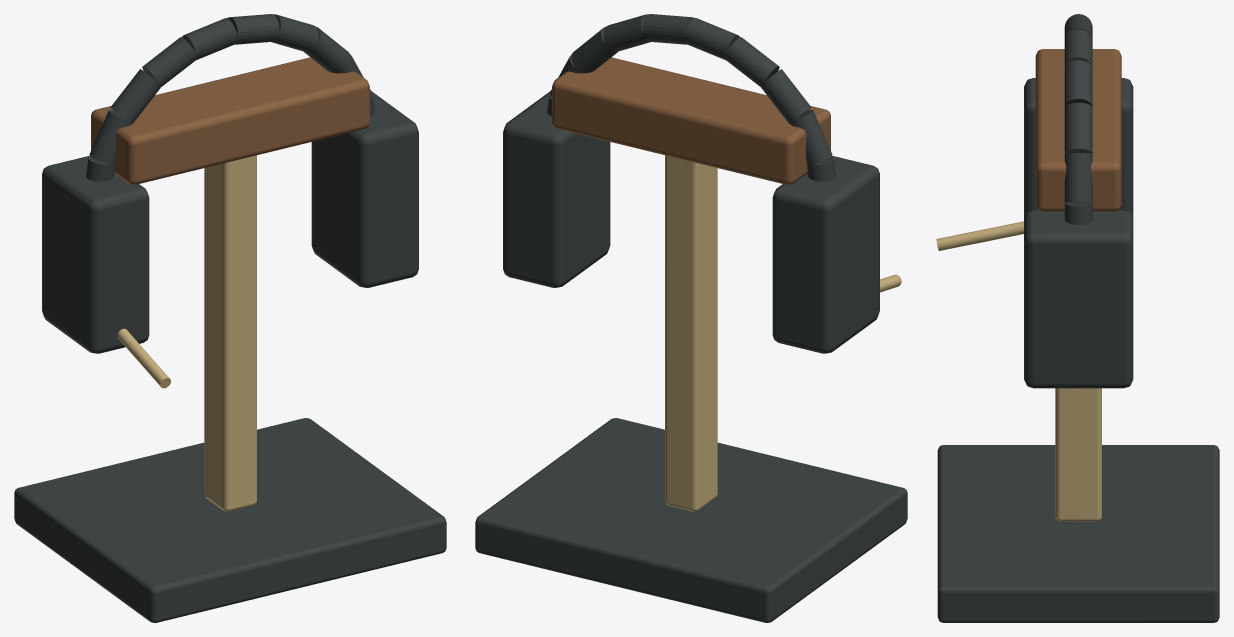
The model's file is city-courthouse-and-records-office-city-courthouse-and-62ae5cb8__30982.glb.
3 renders of one model, left to right at view 1: azimuth 30°, elevation 25°; view 2: azimuth 150°, elevation 25°; view 3: azimuth 270°, elevation 25°, orthographic.
Parts seen in each view (by area): view 1: city-courthouse-and-records-office-interpreter-headset-stand (×3); view 2: city-courthouse-and-records-office-interpreter-headset-stand (×3); view 3: city-courthouse-and-records-office-interpreter-headset-stand (×3).
Part boxes in pixels (left/top/right/bottom): city-courthouse-and-records-office-interpreter-headset-stand (×3): left=14, top=14, right=446, bottom=622; city-courthouse-and-records-office-interpreter-headset-stand (×3): left=475, top=14, right=907, bottom=622; city-courthouse-and-records-office-interpreter-headset-stand (×3): left=936, top=14, right=1219, bottom=622.
Size of the model in its own units: 0.245 by 0.3689 by 0.1809.
